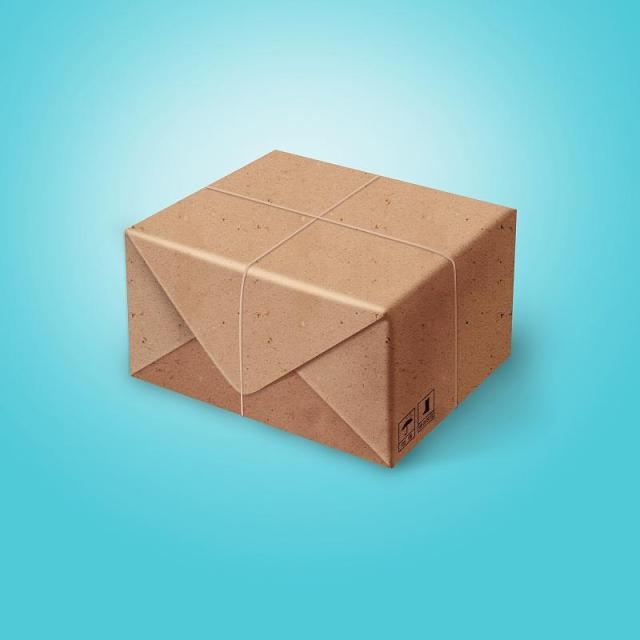box: (124, 149, 519, 471)
